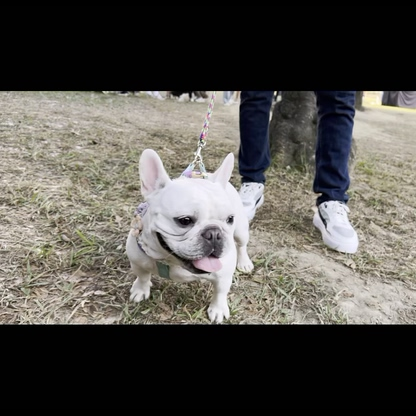bulldog: (124, 146, 256, 323)
